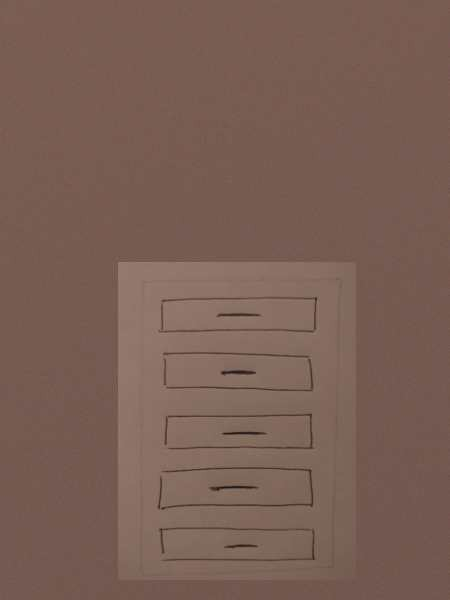button: (155, 465, 320, 512), (156, 521, 321, 567), (157, 351, 320, 394), (158, 410, 321, 453), (158, 293, 320, 336)
